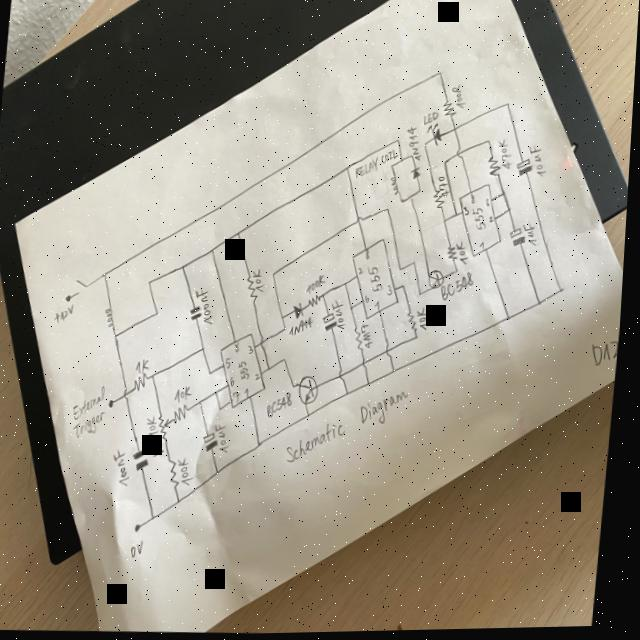capacitor: (510, 226, 529, 253), (516, 159, 535, 184), (136, 449, 155, 473), (324, 313, 342, 334), (206, 432, 224, 453), (191, 306, 207, 322)
crossover: (388, 345, 397, 359), (457, 149, 466, 160), (263, 337, 270, 351), (342, 370, 350, 382), (357, 216, 366, 226), (127, 388, 134, 400), (365, 360, 372, 370)
diode: (426, 124, 446, 150), (295, 302, 309, 321), (412, 168, 423, 181)
inductor: (107, 306, 119, 329), (391, 178, 403, 197)
junction: (155, 512, 162, 522), (502, 191, 509, 200), (348, 390, 355, 399), (104, 271, 111, 279), (437, 71, 444, 79), (562, 288, 569, 296), (486, 139, 493, 147), (211, 247, 218, 255), (201, 399, 208, 407), (203, 345, 210, 353), (345, 281, 352, 289), (346, 165, 353, 173), (414, 260, 420, 269), (183, 263, 189, 272), (506, 102, 512, 110), (420, 291, 426, 299), (157, 309, 163, 317), (285, 357, 291, 365), (270, 365, 276, 373), (509, 315, 515, 323), (508, 207, 514, 215), (261, 441, 267, 449), (220, 469, 226, 477), (182, 497, 188, 505), (274, 272, 280, 280), (540, 301, 546, 309), (116, 333, 122, 341), (238, 231, 244, 239), (150, 279, 156, 286), (212, 370, 218, 377), (387, 207, 393, 214), (218, 389, 223, 397), (400, 267, 406, 273), (283, 316, 289, 322), (370, 381, 376, 387), (444, 219, 449, 226), (395, 369, 399, 377), (411, 195, 416, 201), (401, 159, 406, 165), (456, 213, 461, 219), (454, 128, 459, 134), (404, 285, 408, 292), (397, 139, 402, 144), (155, 373, 159, 379), (311, 413, 315, 419), (325, 295, 329, 301), (352, 307, 356, 313), (445, 161, 449, 167), (296, 385, 300, 390), (223, 407, 226, 413), (287, 327, 290, 333), (403, 201, 407, 205), (420, 190, 424, 194), (418, 337, 421, 341), (392, 166, 395, 170), (425, 144, 428, 148), (412, 156, 414, 160), (459, 270, 461, 274)
resistor: (160, 414, 177, 441), (172, 460, 186, 489), (248, 274, 262, 302), (356, 326, 370, 354), (441, 100, 459, 121), (177, 404, 194, 425), (487, 156, 503, 178), (433, 190, 448, 212), (409, 313, 423, 334), (137, 374, 152, 393), (448, 247, 462, 263), (312, 296, 324, 308)
switch: (76, 278, 92, 296)
terminal: (111, 398, 120, 410), (139, 523, 147, 534), (68, 295, 75, 303)
text: (289, 388, 414, 468), (356, 149, 400, 181), (76, 385, 111, 421), (443, 272, 477, 304), (77, 410, 110, 441), (116, 448, 138, 489), (196, 287, 219, 326), (529, 145, 551, 182), (270, 392, 298, 420), (405, 126, 425, 163), (497, 138, 516, 174), (216, 423, 237, 455), (181, 457, 201, 489), (523, 222, 544, 252), (332, 300, 351, 333), (367, 268, 388, 295), (291, 318, 317, 339), (450, 84, 469, 112), (55, 303, 78, 324), (362, 324, 379, 350), (472, 209, 490, 233), (456, 243, 473, 268), (309, 275, 329, 296), (177, 385, 197, 405), (149, 414, 165, 439), (419, 308, 435, 332), (254, 269, 269, 294), (438, 176, 454, 199), (135, 540, 151, 559), (155, 439, 171, 458), (241, 361, 255, 381), (423, 111, 440, 127), (138, 359, 154, 375), (236, 392, 245, 405), (229, 358, 236, 370), (390, 285, 396, 297), (238, 342, 244, 354), (378, 302, 385, 312), (248, 388, 254, 399), (472, 195, 478, 206), (251, 346, 257, 356), (482, 242, 488, 252), (465, 208, 471, 218), (368, 250, 373, 261), (234, 377, 239, 388), (488, 199, 493, 209), (360, 269, 367, 276), (259, 374, 265, 382), (491, 217, 497, 225), (368, 296, 373, 304)
transistor: (300, 377, 325, 407), (430, 270, 448, 292)
